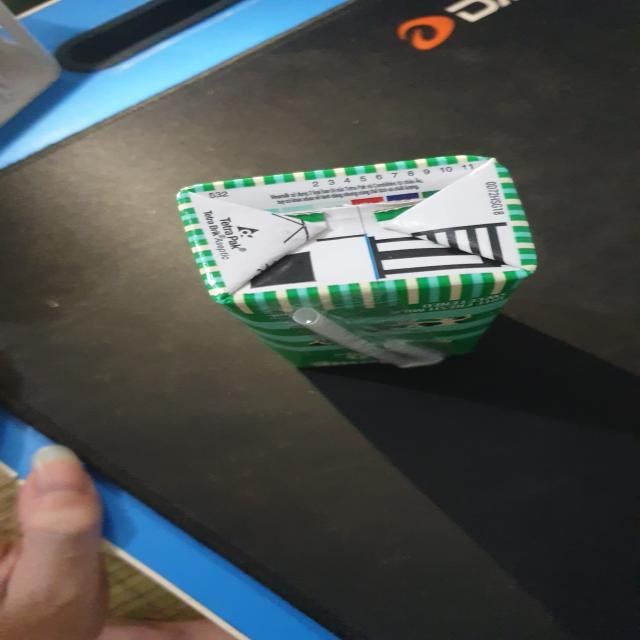Vina: (172, 148, 550, 375)
